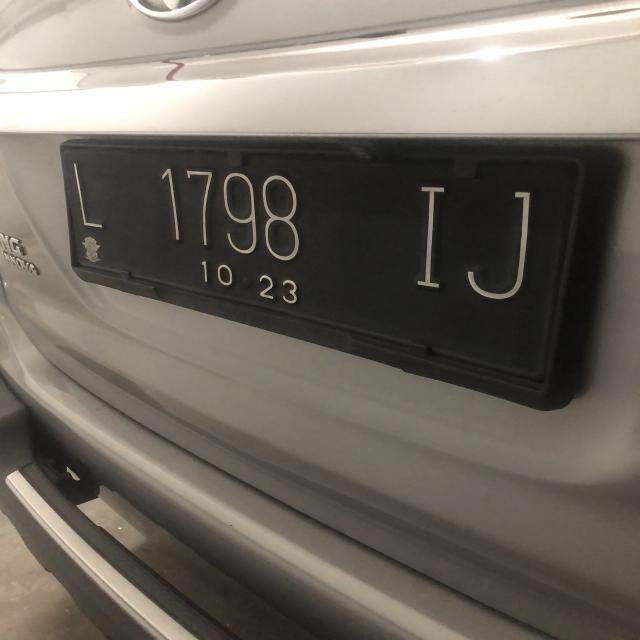1: (156, 160, 183, 250)
7: (180, 163, 217, 250)
8: (257, 170, 310, 264)
9: (215, 170, 262, 261)
I: (400, 178, 460, 297)
J: (463, 181, 547, 308)
L: (64, 160, 119, 236)
